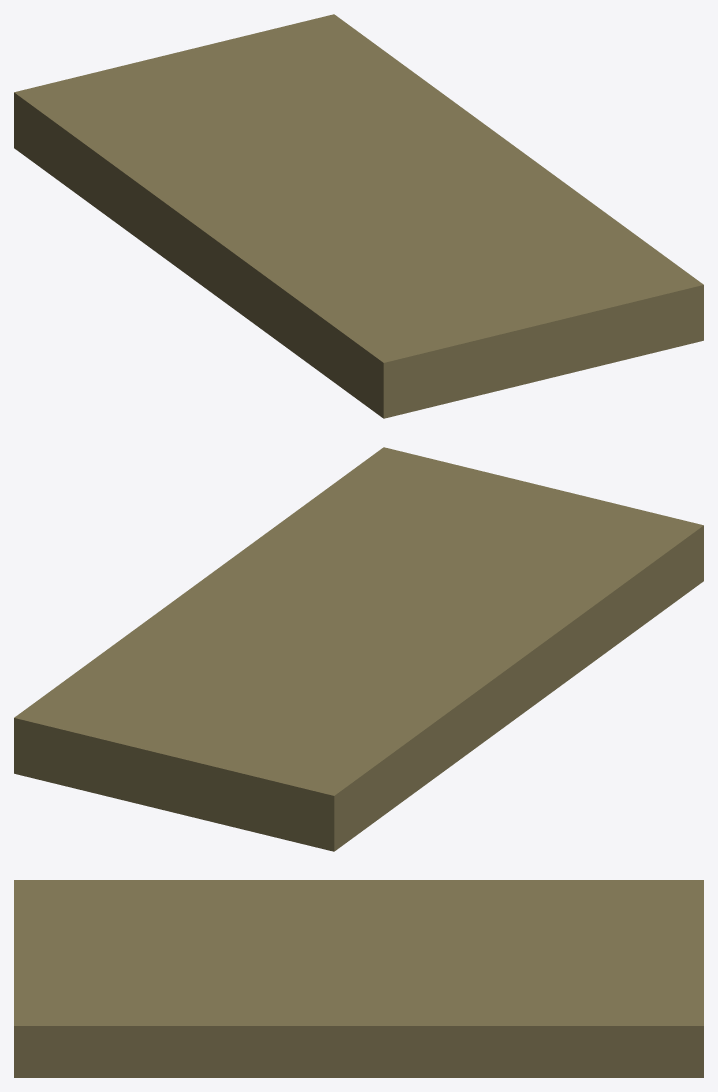
Rendered from PROP_01_FluorescentFixture.glb.
The picture shows the model from 3 angles, top to bottom: view 1: azimuth 30°, elevation 25°; view 2: azimuth 150°, elevation 25°; view 3: azimuth 270°, elevation 25°; orthographic projection. The views are drawn at different scales.
Visible parts, largest first — view 1: PROP_01_FluorescentFixture; view 2: PROP_01_FluorescentFixture; view 3: PROP_01_FluorescentFixture.
Boxes of the visible parts, x1=… form: PROP_01_FluorescentFixture: x1=14, y1=14, x2=703, y2=418; PROP_01_FluorescentFixture: x1=14, y1=447, x2=703, y2=851; PROP_01_FluorescentFixture: x1=14, y1=880, x2=703, y2=1077.
Size of the model in its own units: 0.6 by 0.105 by 1.2.
